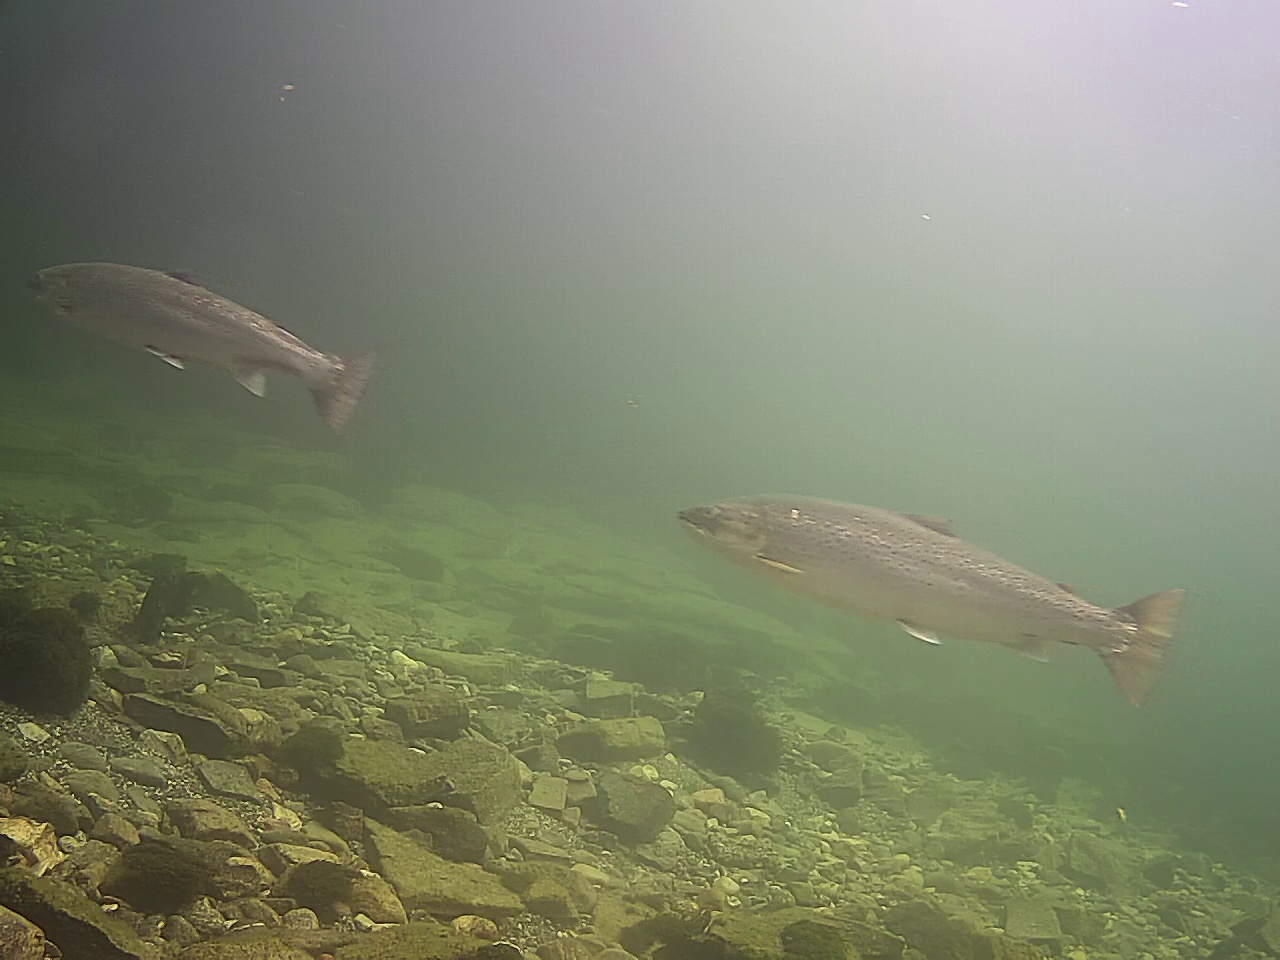salmon: (675, 492, 1190, 708), (20, 259, 380, 430)
